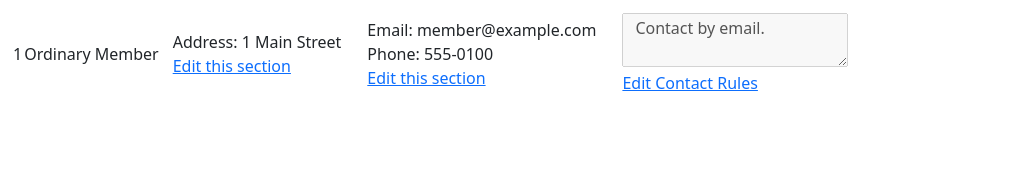
Test: cancel restores the saved contact details without sending a request
Click the text "Edit this section" below "Phone:" at (426, 78), box 367,67 -> 486,89
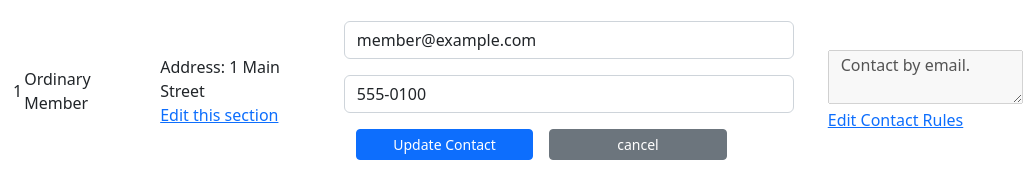
Replace the text in the 1st field with placeholder "Email" with "unsaved@example.com" at (569, 40), box 344,21 -> 794,59
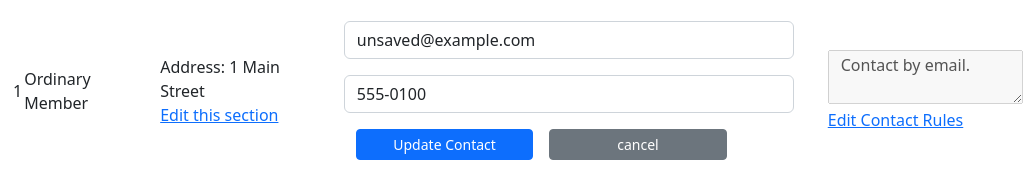
Replace the text in the 2nd field with placeholder "Phone" with "555-9999" at (569, 94), box 344,75 -> 794,113
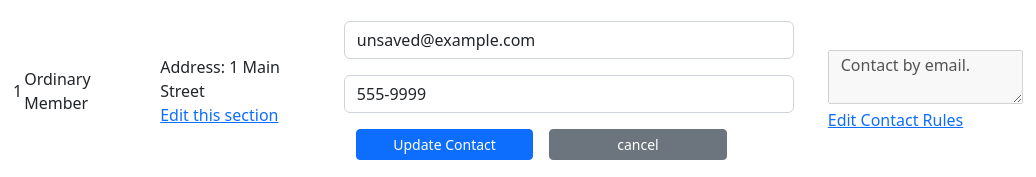
Click the button "cancel" at (638, 144), box 549,129 -> 727,160
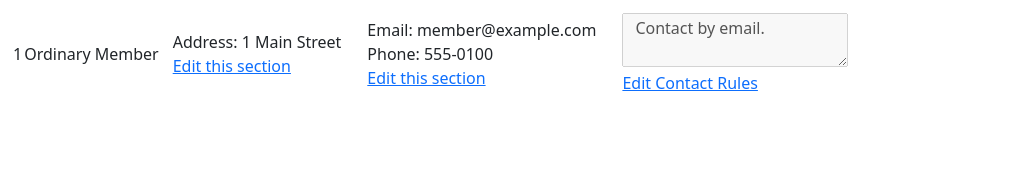
Check: the text "Email: member@example.com" is shown, box 367,18 -> 596,42
Check: the text "Phone: 555-0100" is shown, box 367,43 -> 493,65
Reopening the editor should also show the saved values.
Click the text "Edit this section" below "Phone:" at (426, 78), box 367,67 -> 486,89
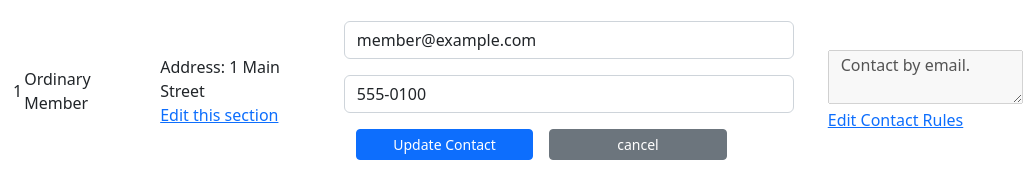
Check: the 1st field with placeholder "Email" holds "member@example.com", box 344,21 -> 794,59
Check: the 2nd field with placeholder "Phone" holds "555-0100", box 344,75 -> 794,113
